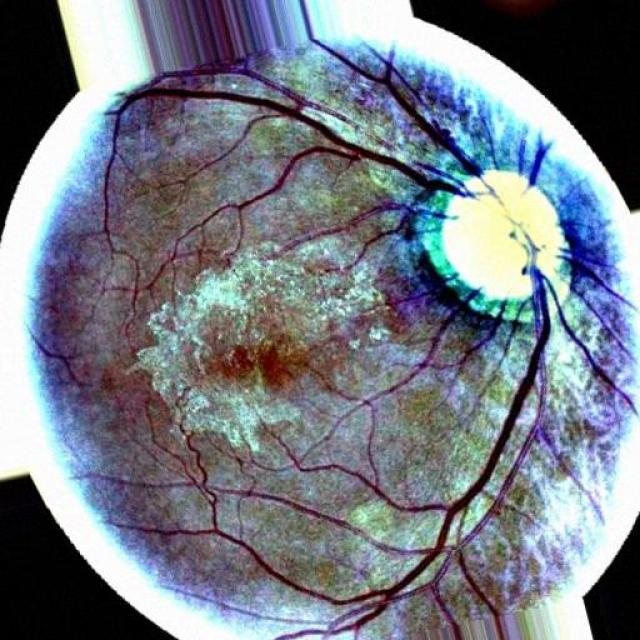Macula: (179, 324, 320, 408)
Nerves: (154, 45, 583, 639)
Optic Disk: (389, 164, 604, 354)
